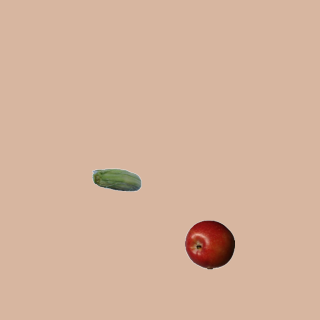Apple Braeburn: (184, 219, 234, 269)
Corn Husk: (91, 156, 141, 206)
